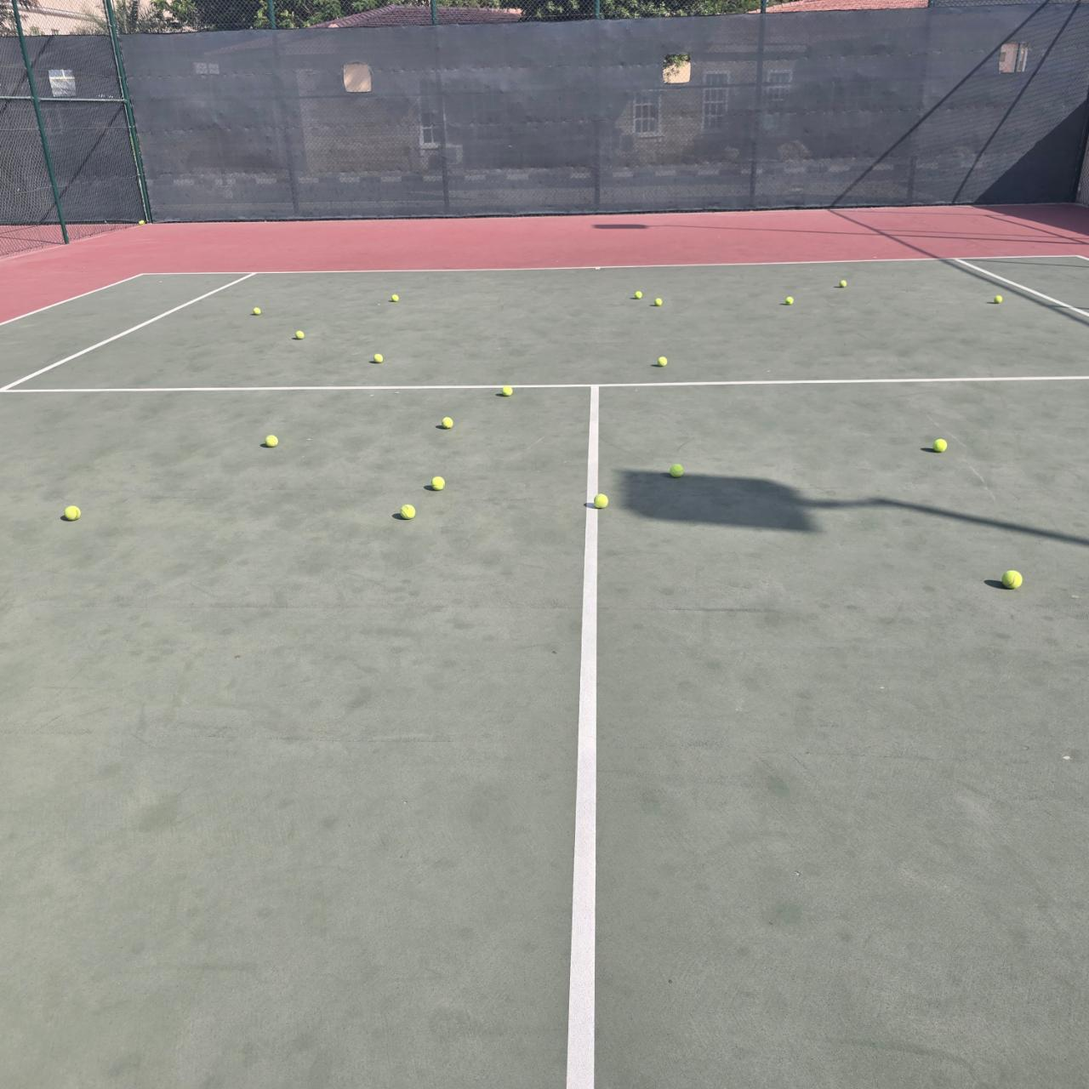tennis-ball: (1001, 567, 1023, 588), (61, 503, 81, 521), (399, 502, 416, 519), (262, 432, 278, 448), (668, 461, 684, 477), (593, 491, 607, 509), (932, 436, 947, 452), (430, 474, 445, 490), (370, 351, 383, 363), (500, 385, 513, 396), (442, 417, 453, 429), (657, 356, 668, 368), (294, 330, 304, 340), (993, 295, 1003, 304), (391, 294, 400, 303), (785, 296, 794, 305), (253, 307, 262, 315), (654, 298, 662, 306), (635, 291, 643, 299), (839, 280, 847, 288), (139, 220, 145, 225)
